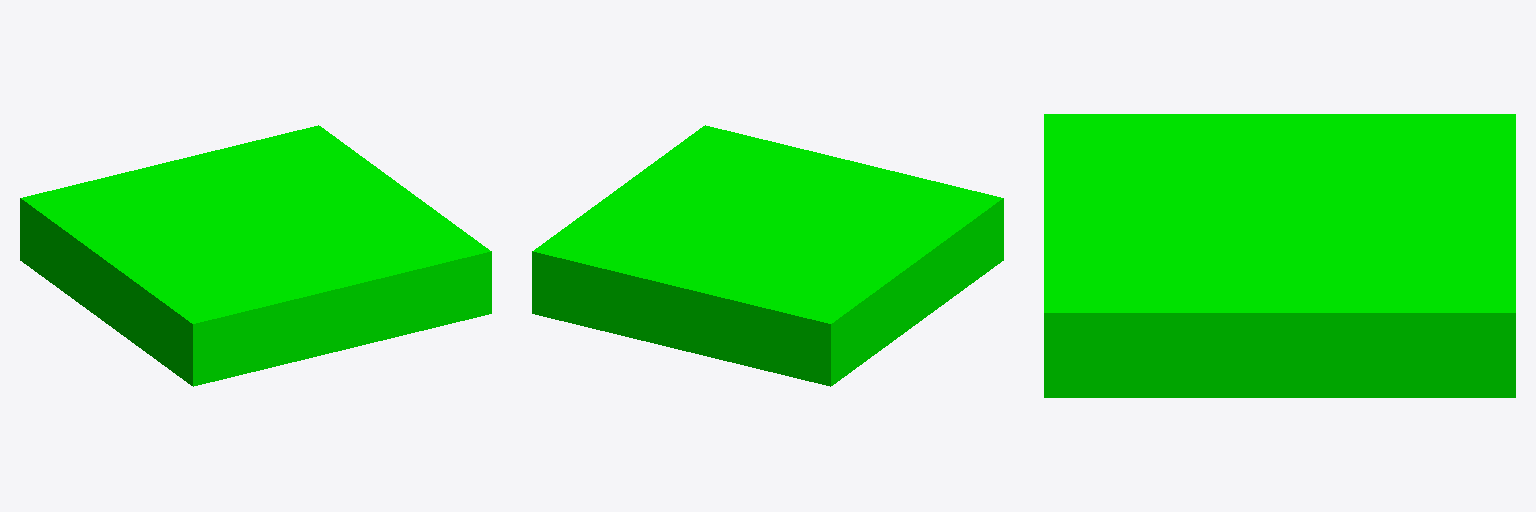
robot.urdf — redboxs:
<?xml version="1.0" ?>

<robot name="redboxs">

<!-- 
  <gazebo> <static>false</static> </gazebo>

  <link name="world"> </link>

  <joint name="world_joint" type="fixed">
    <parent link="world"/>
    <child link="redboxs"/>
    <origin xyz= "0 0 0" rpy="0 0 0" />
  </joint>
-->
<!-- -->  
  <gazebo> <static>true</static> </gazebo>

  <link name="base_link"> </link>

  <joint name="world_joint" type="fixed">
    <parent link="base_link"/>
    <child link="redboxs"/>
    <origin xyz= "0 0 0" rpy="0 0 0" />
  </joint>

  <link name="redboxs">
    <visual>
      <origin xyz="0 0 0.005" rpy="0 0 0" />
      <geometry> <box size="0.05 0.05 0.01"/> </geometry>
      <material name=""> <color rgba="0.0 1.0 0.0 1.0" /> </material>
    </visual>
    <collision>
      <origin xyz="0 0 0.005" rpy="0 0 0" />
      <geometry> <box size="0.05 0.05 0.01"/> </geometry>
    </collision>
    <inertial>
      <origin xyz="0 0 0.005" rpy="0 0 0" />
      <mass value="0.01" />
      <inertia ixx="0.001" ixy="0" ixz="0" iyy="0.001" iyz="0" izz="0.001" />
    </inertial>
  </link>

<gazebo reference="redboxs"> <material>Gazebo/Red</material> </gazebo>

</robot>

--- Render facts (derived) ---
The picture shows the robot from 3 angles, left to right: view 1: azimuth 30°, elevation 25°; view 2: azimuth 150°, elevation 25°; view 3: azimuth 270°, elevation 25°; orthographic projection.
Robot: redboxs — 2 links, 1 joints (1 fixed); root link base_link; default pose: every joint at zero.
Links seen in each view (by area): view 1: redboxs; view 2: redboxs; view 3: redboxs.
Link boxes in pixels (x1,y1,x2,y2): redboxs: [20, 125, 491, 386]; redboxs: [532, 125, 1003, 386]; redboxs: [1044, 114, 1515, 397].
Bounding box of the posed robot: 0.05 × 0.05 × 0.01 m (x, y, z).
Geometry: primitives only (box / cylinder / sphere), no mesh files.
